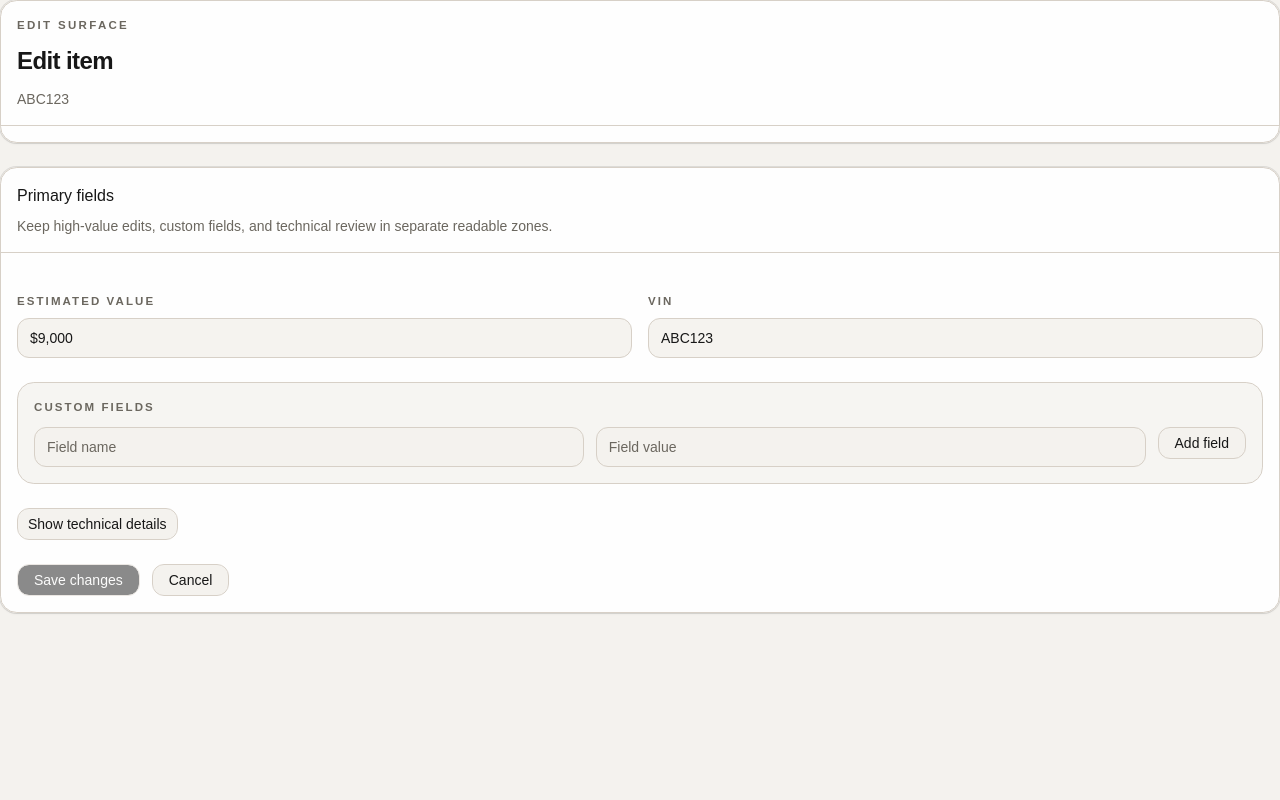
Test: items workflows › warns before navigation when edit form has unsaved changes
Expected: the text "Edit item" is shown, x1=17 y1=47 x2=113 y2=74
Step 1. Replace the text in the field labelled "Estimated value" with "12345" → {"x": 324, "y": 338}, box x1=17 y1=318 x2=632 y2=358
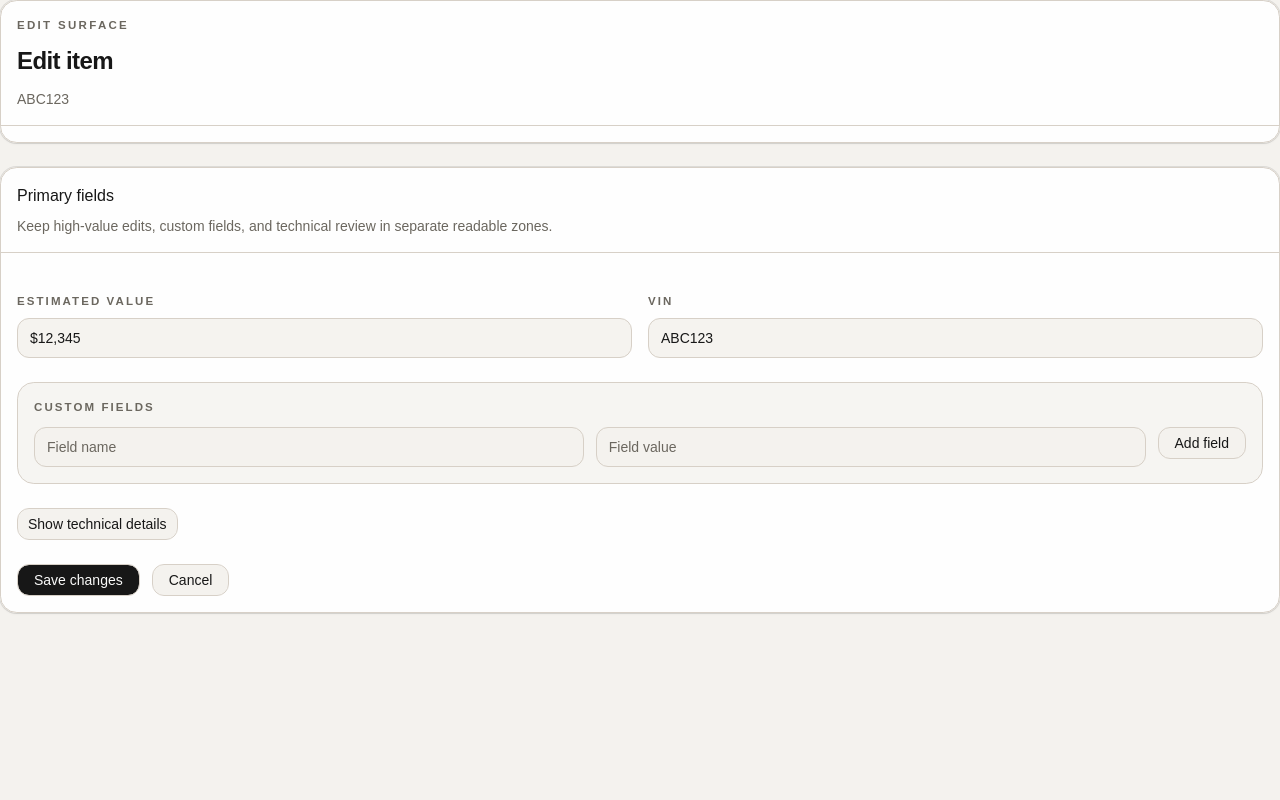
Step 2. Click the link "Cancel" → {"x": 190, "y": 580}, box x1=152 y1=564 x2=229 y2=596
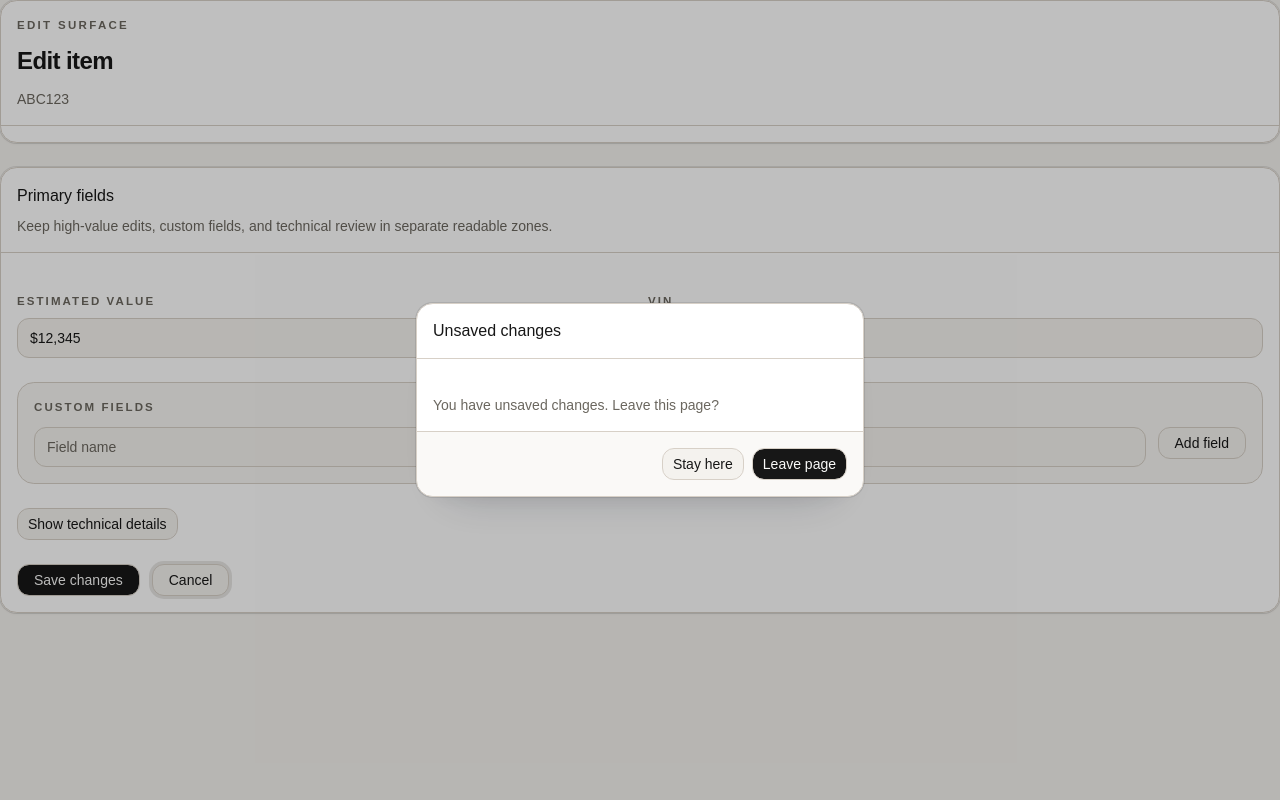
Expected: the text "You have unsaved changes. Leave this page?" is shown, x1=433 y1=397 x2=719 y2=413
Expected: the button "Stay here" is shown, x1=662 y1=448 x2=744 y2=480
